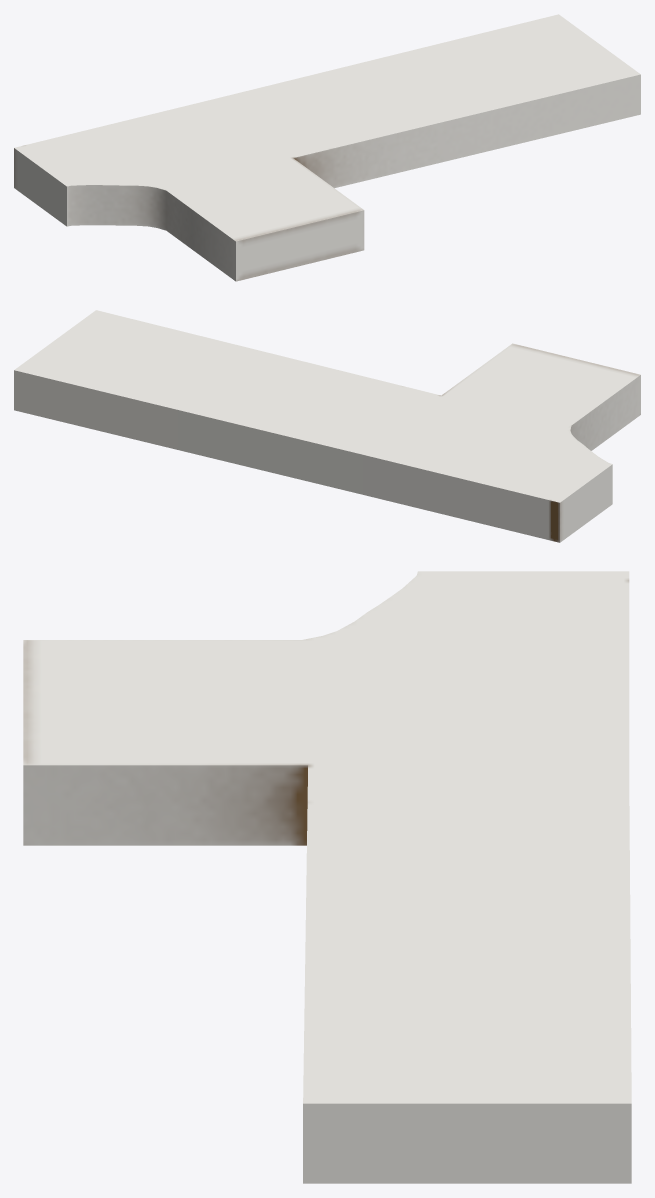
Rendered from 1_Silver.glb.
3 renders of one model, top to bottom at view 1: azimuth 30°, elevation 25°; view 2: azimuth 150°, elevation 25°; view 3: azimuth 270°, elevation 25°, orthographic. The views are drawn at different scales.
Visible parts, largest first — view 1: 1*; view 2: 1*; view 3: 1*.
Part boxes in pixels (x1,y1,x2,y2): 1*: [14, 14, 640, 281]; 1*: [14, 310, 640, 542]; 1*: [23, 571, 631, 1183].
Bounding box in the file's own units: 0.5378 × 0.0378 × 0.2599.
1 material, 1 textured.
